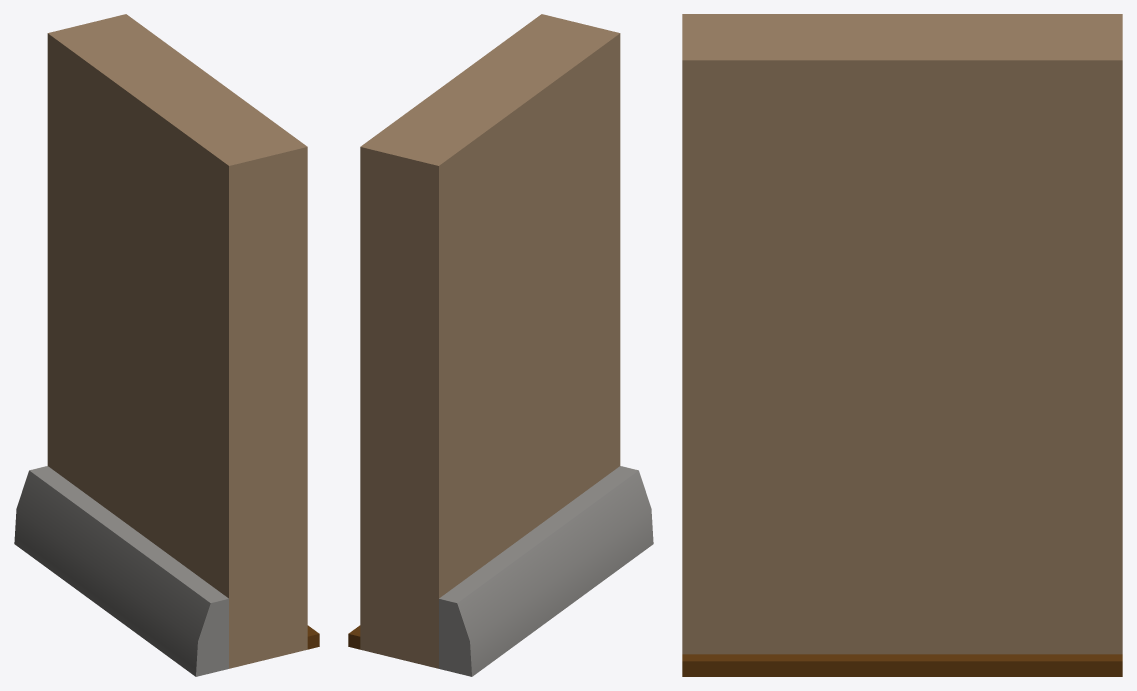
The model's file is SM_Wall_NoTop.fbx.
3 views of the same model, side by side, from view 1: azimuth 30°, elevation 25°; view 2: azimuth 150°, elevation 25°; view 3: azimuth 270°, elevation 25° (orthographic). The views are drawn at different scales.
Visible parts, largest first — view 1: SM_Wall_NoTop; view 2: SM_Wall_NoTop; view 3: SM_Wall_NoTop.
Part boxes in pixels (x1,y1,x2,y2): SM_Wall_NoTop: (14, 14, 319, 676); SM_Wall_NoTop: (348, 14, 653, 676); SM_Wall_NoTop: (682, 14, 1122, 676).
Size of the model in its own units: 78.71 by 306 by 200.
